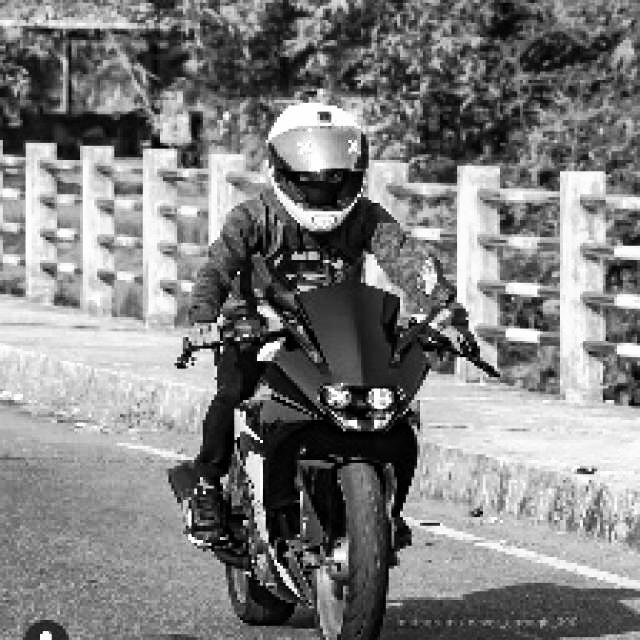Bike: (190, 299, 441, 619)
